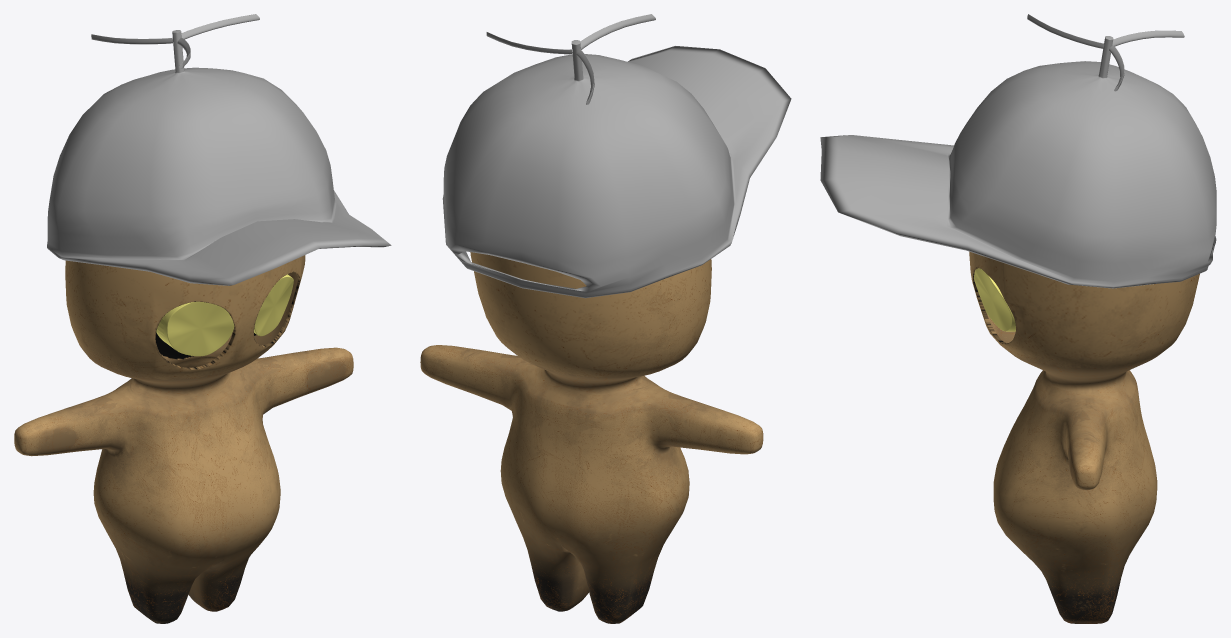
Rendered from eudie6.fbx.
3 renders of one model, left to right at view 1: azimuth 30°, elevation 25°; view 2: azimuth 150°, elevation 25°; view 3: azimuth 270°, elevation 25°, orthographic.
Visible parts, largest first — view 1: polySurface1204, hat, eye4, eye3, blades; view 2: hat, polySurface1204, blades; view 3: hat, polySurface1204, eye3, blades.
Part boxes in pixels (x1,y1,x2,y2): polySurface1204: [14, 255, 353, 623]; hat: [47, 30, 391, 285]; eye4: [156, 301, 234, 356]; eye3: [254, 274, 293, 336]; blades: [91, 14, 259, 68]; hat: [442, 40, 791, 298]; polySurface1204: [420, 252, 763, 623]; blades: [486, 14, 655, 104]; hat: [820, 36, 1216, 288]; polySurface1204: [969, 251, 1199, 623]; eye3: [974, 268, 1015, 331]; blades: [1027, 14, 1184, 91].
Size of the model in its own units: 80.65 by 133 by 82.48.
